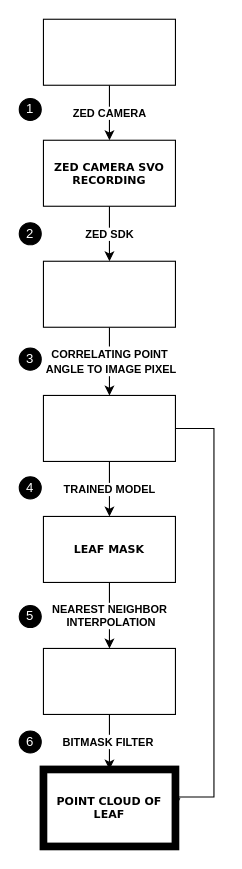
The diagram is 242 pixels wide and 869 high, and some of its shapes have lost their labels. The centre of each missing label's shape, as x and y in pixels:
"GREENHOUSE + ZED CAMERA" belongs at (108,51).
"POINT CLOUD OF PLANTS" belongs at (108,293).
"PROJECTION OF POINT CLOUD" belongs at (108,427).
"SCALED LEAF MASK" belongs at (108,680).
